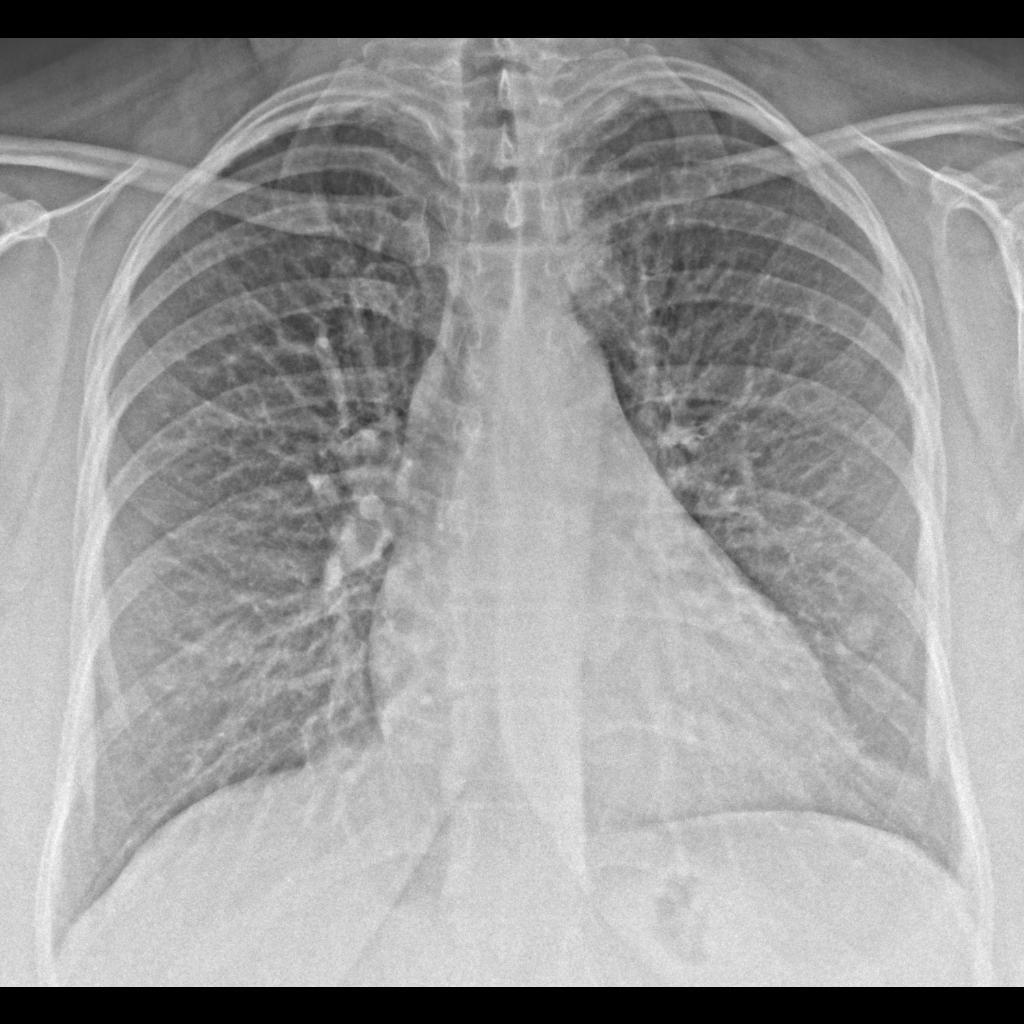Nodule: (833, 602, 886, 657)
